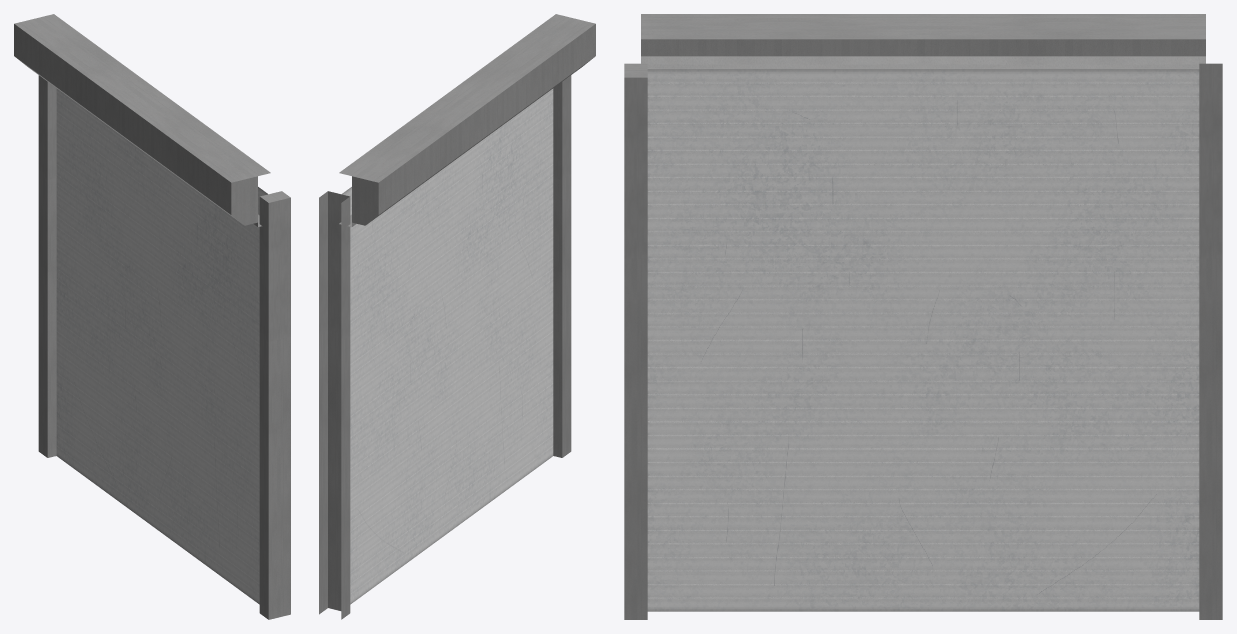
The model's file is warehouse_rollerdoor_static.glb.
The picture shows the model from 3 angles, left to right: view 1: azimuth 30°, elevation 25°; view 2: azimuth 150°, elevation 25°; view 3: azimuth 270°, elevation 25°; orthographic projection. The views are drawn at different scales.
Visible parts, largest first — view 1: Plane.056, Cube.136, Cube.123, Cube.118, Cube.124, Cube.119; view 2: Plane.056, Cube.136, Cube.118, Cube.123, Cube.119, Cube.124; view 3: Plane.056, Cube.136, Cube.118, Cube.123, Cube.119, Cube.124.
Boxes of the visible parts, x1,y1,x2,y2 form: Plane.056: [56, 88, 267, 604]; Cube.136: [14, 14, 270, 226]; Cube.123: [259, 335, 290, 619]; Cube.118: [38, 174, 56, 457]; Cube.124: [259, 191, 290, 341]; Cube.119: [38, 75, 56, 179]; Plane.056: [342, 88, 553, 604]; Cube.136: [339, 14, 595, 226]; Cube.118: [319, 330, 350, 619]; Cube.123: [553, 174, 571, 457]; Cube.119: [319, 191, 350, 341]; Cube.124: [553, 75, 571, 179]; Plane.056: [647, 69, 1199, 611]; Cube.136: [641, 14, 1205, 69]; Cube.118: [1199, 258, 1222, 619]; Cube.123: [624, 258, 647, 619]; Cube.119: [1199, 63, 1222, 258]; Cube.124: [624, 63, 647, 258].
Size of the model in its own units: 2.4 by 19 by 18.
Materials: 2 (2 with a texture image).
